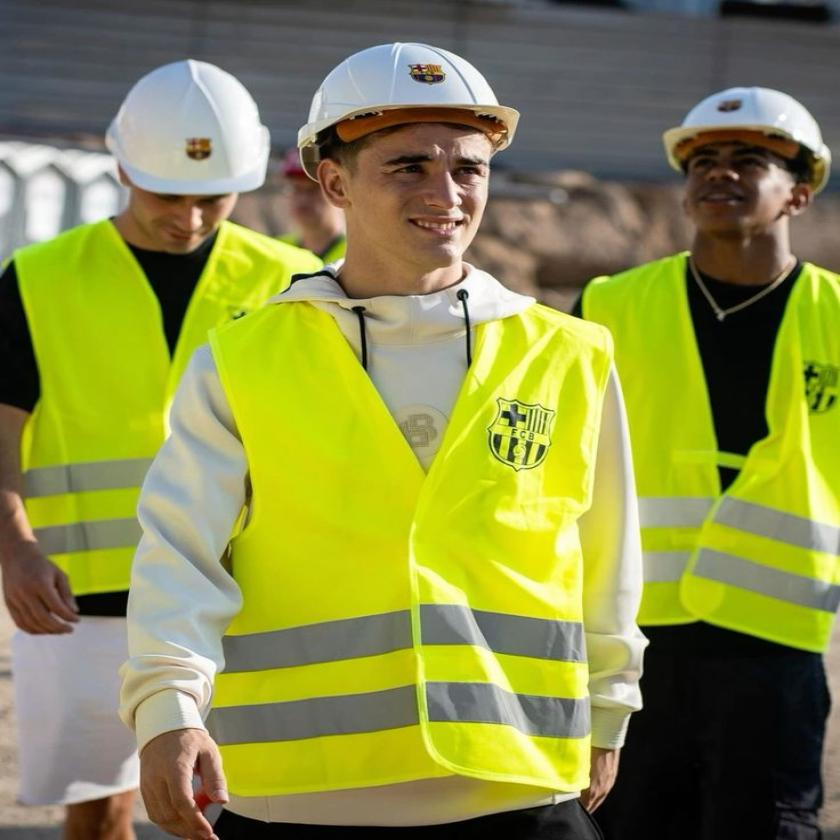Con_casco: (303, 49, 522, 316), (110, 64, 275, 258), (650, 89, 838, 254)
